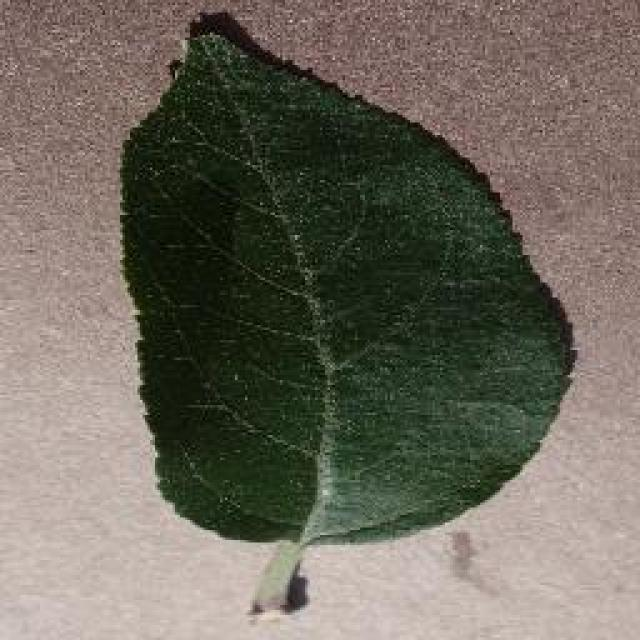apple healthy: (115, 5, 577, 613)
